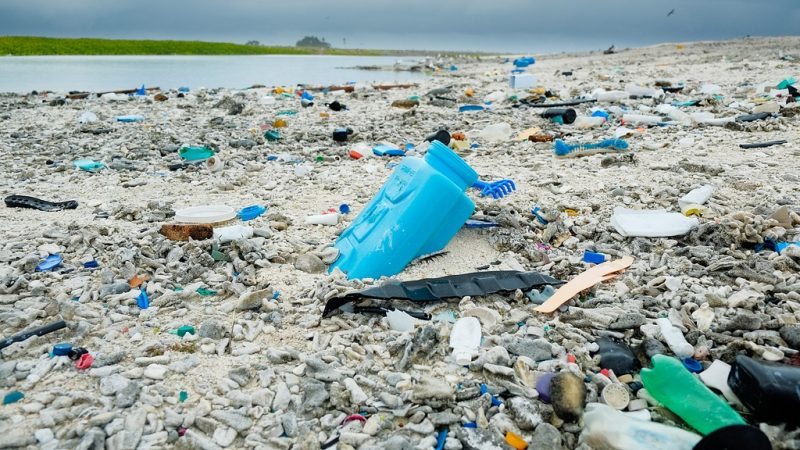litter: (275, 131, 510, 281), (311, 256, 571, 327), (616, 333, 762, 439), (536, 236, 626, 323), (156, 194, 269, 255), (606, 202, 720, 241), (1, 309, 94, 352), (6, 184, 99, 221), (539, 137, 636, 163), (342, 130, 410, 157), (610, 103, 668, 130), (500, 68, 550, 92), (501, 48, 542, 71), (33, 248, 73, 271), (63, 154, 109, 170), (540, 106, 579, 124)
